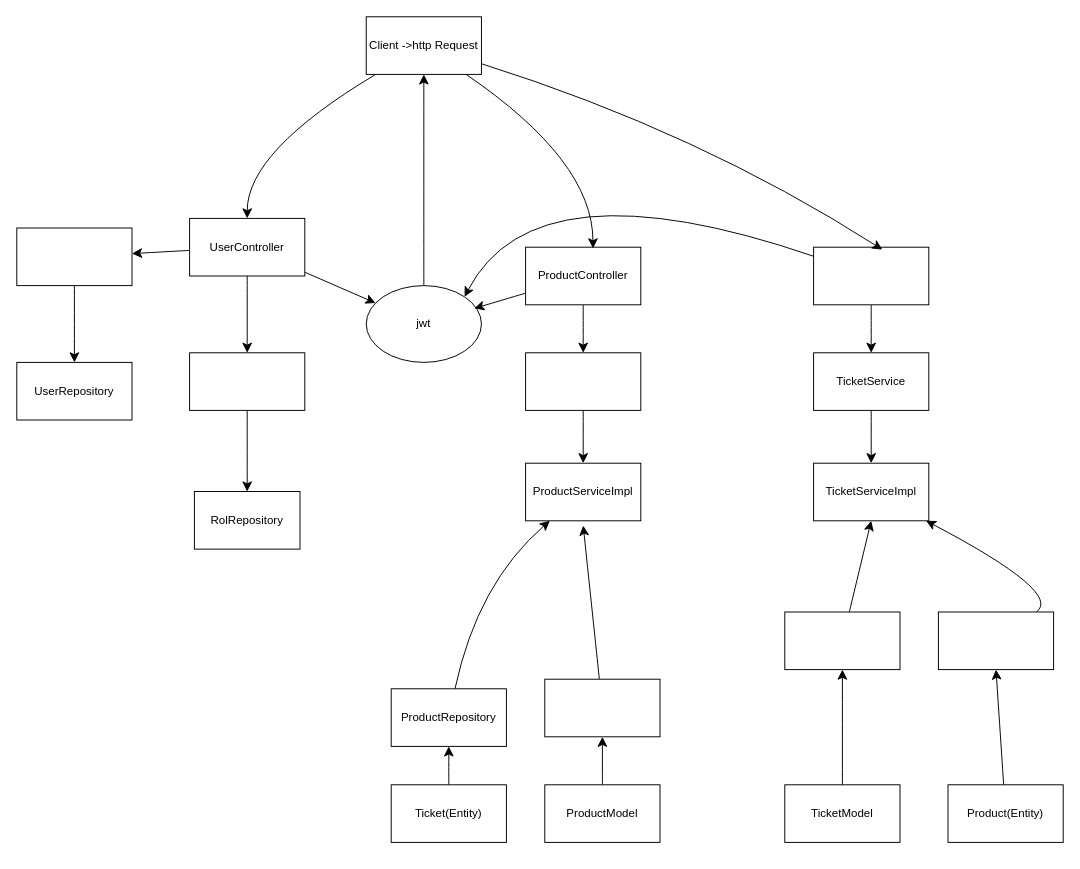
This 1080x869 diagram has some shape labels left out. The centre of each missing label's shape, as x and y in pixels:
"ProductConverter" belongs at (x=602, y=707).
"ProductService" belongs at (x=583, y=381).
"RolService" belongs at (x=247, y=381).
"TicketController" belongs at (x=871, y=275).
"TicketConverter" belongs at (x=842, y=640).
"TicketRepository" belongs at (x=995, y=640).
"UserService" belongs at (x=74, y=256).
